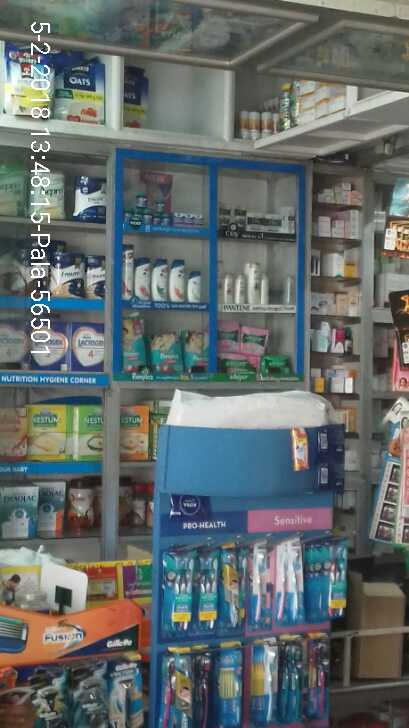oralcare: (154, 537, 353, 724)
vicks: (136, 187, 210, 227)
